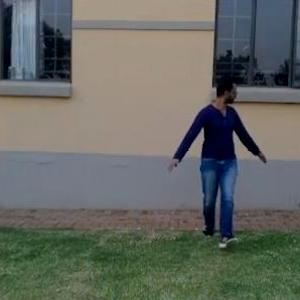land: (171, 70, 281, 248)
